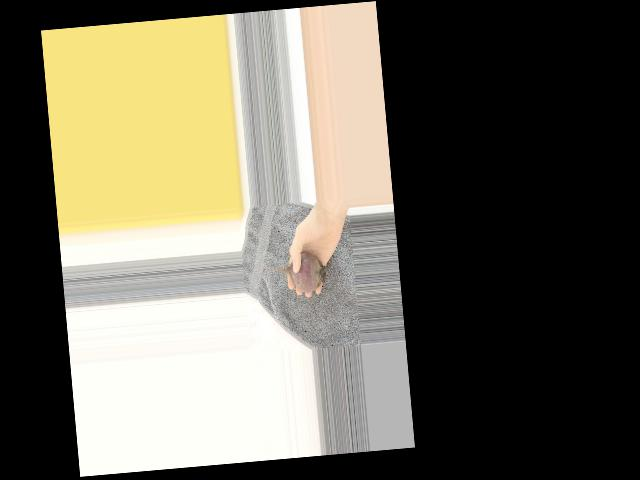beet: (258, 250, 328, 297)
